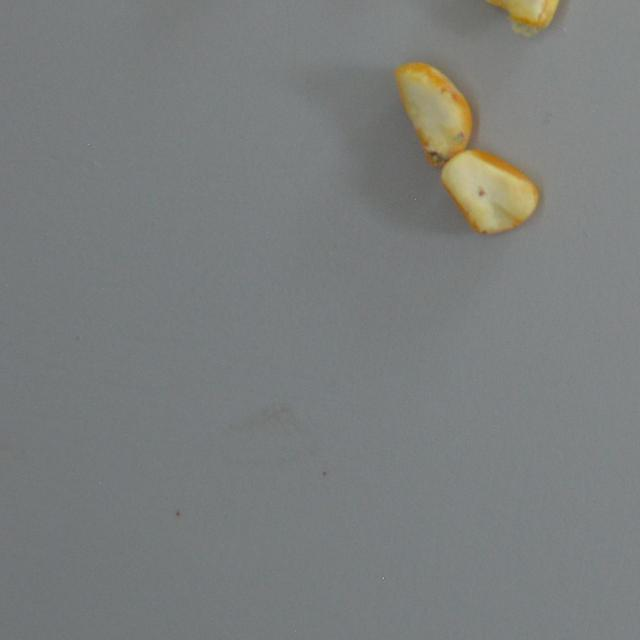dañado: (392, 60, 474, 168), (467, 0, 569, 38)
punto_negro: (438, 149, 540, 237)
